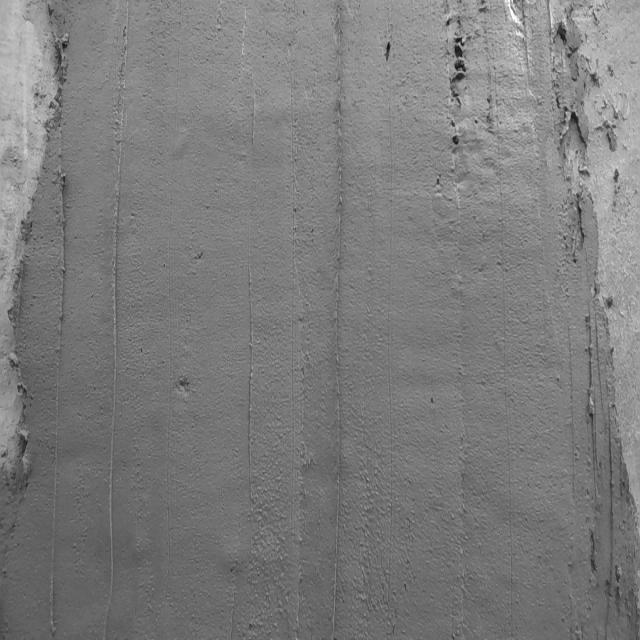trowels marks: (101, 0, 135, 640), (327, 9, 349, 640), (45, 159, 71, 640), (245, 258, 257, 562)
